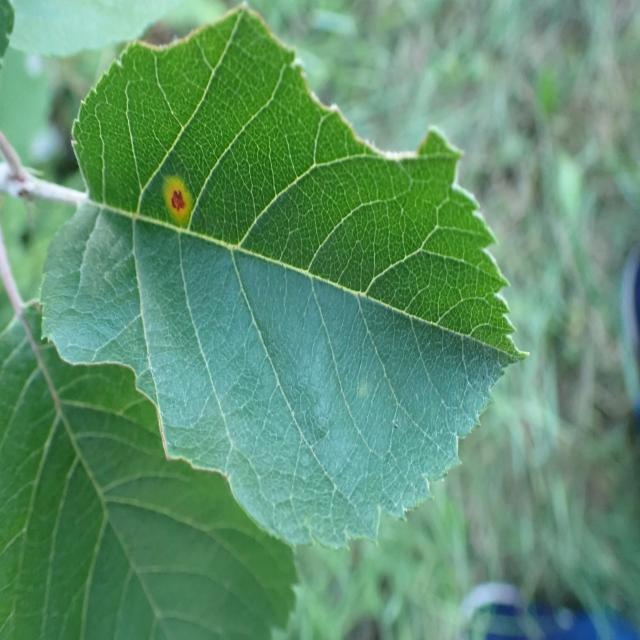Rust: (154, 173, 203, 242)
